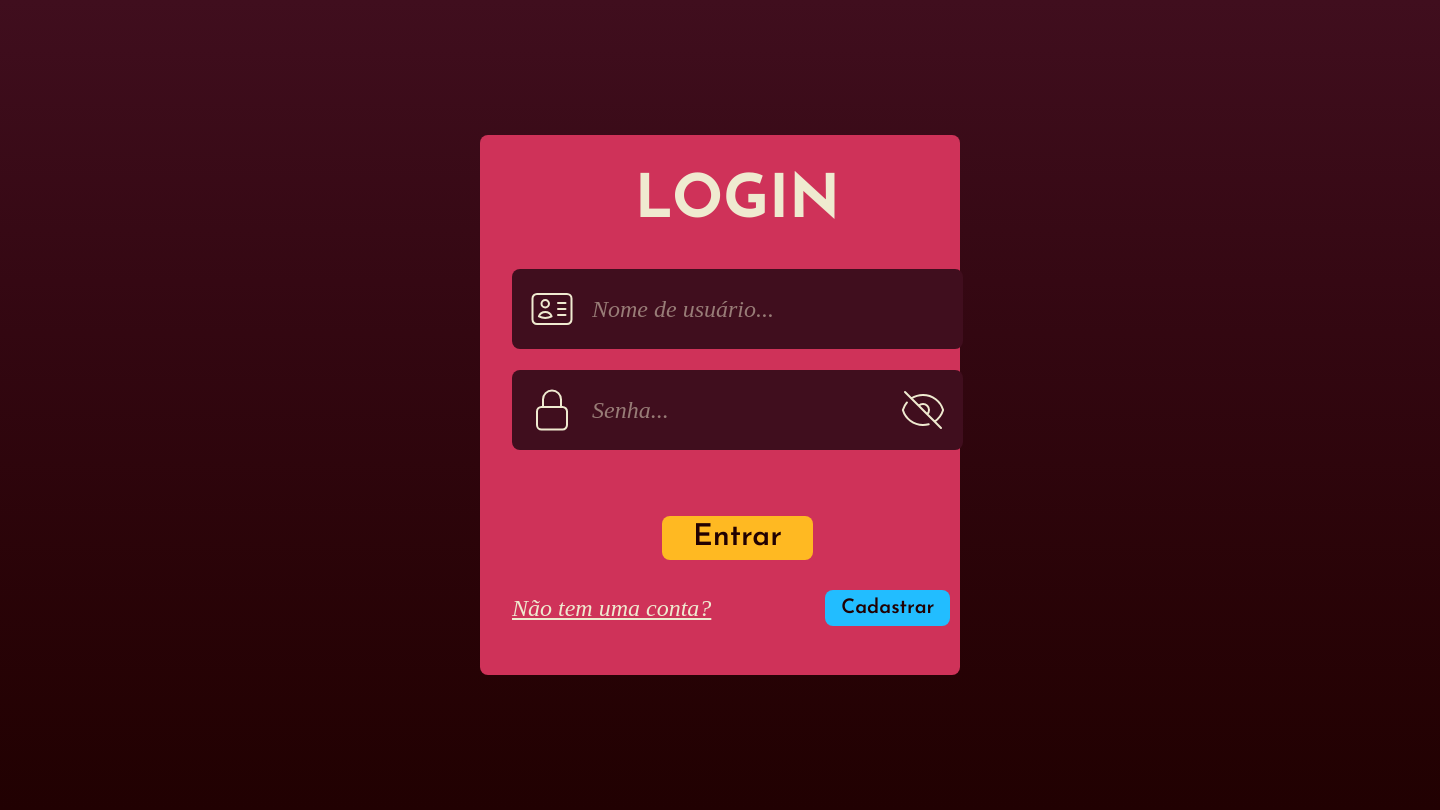
Scenario: Componente Login › Cenário: login com informações inválidas
The width and height of the screenshot is (1440, 810).
Note: DADO QUE eu preenchi dados inválidos...
Type "!@#!@!##@@" into the field with placeholder "Nome de usuário...".
click(762, 309); type("!@#!@!##@@")  # box [592,293,931,325]
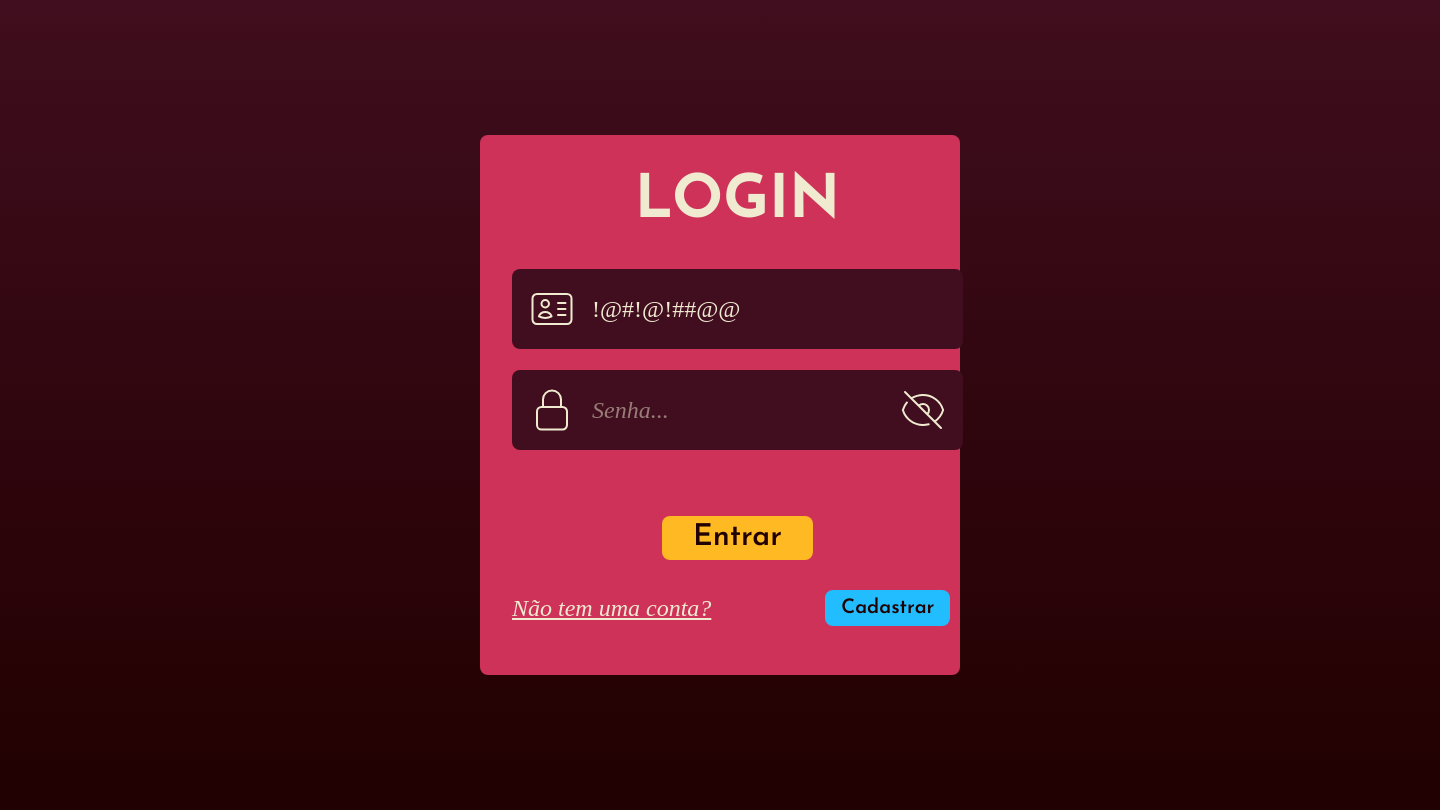
Type "bad" into the password field with placeholder "Senha...".
click(738, 410); type("bad")  # box [592,394,883,426]
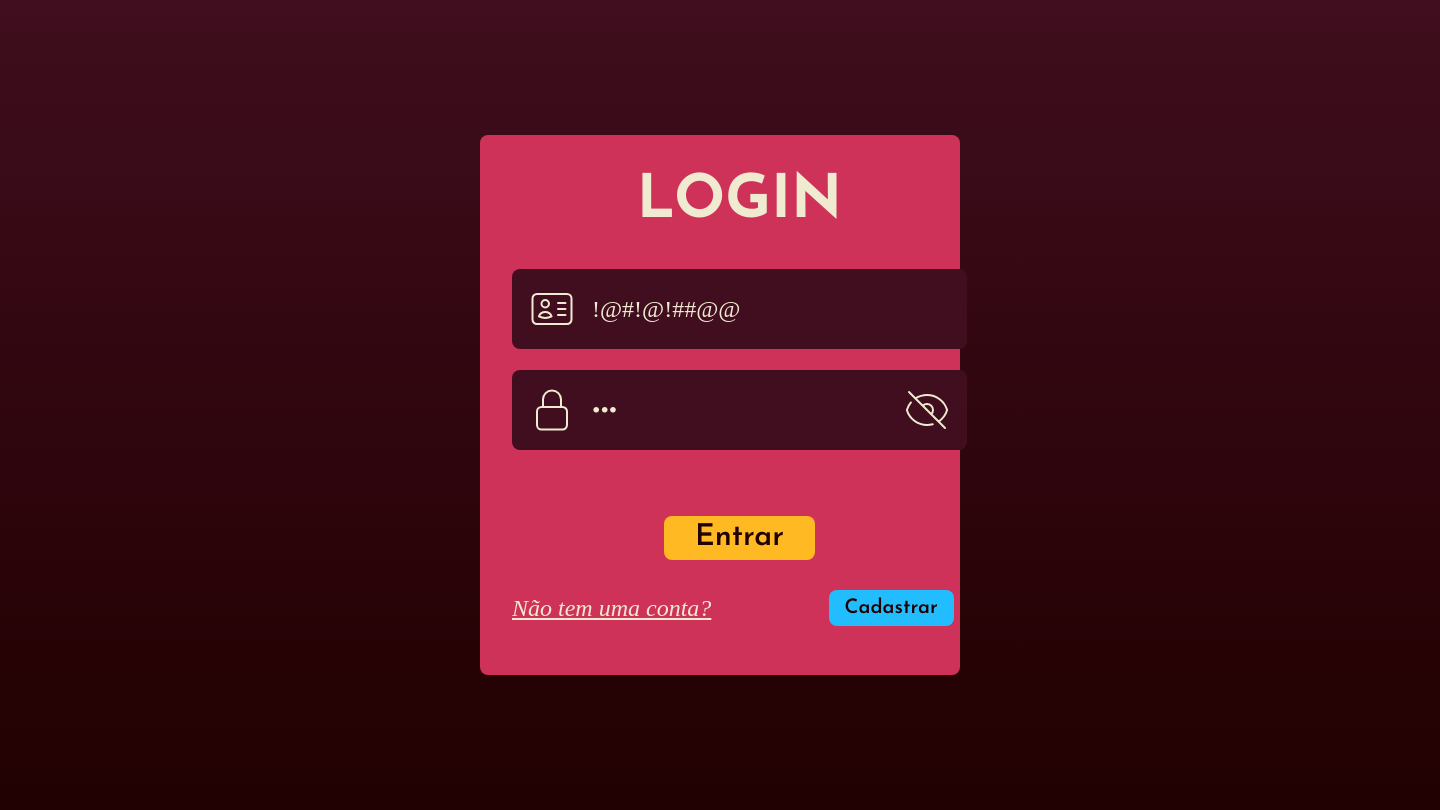
Note: QUANDO eu clico em entrar...
Click the button "Entrar".
click(740, 538)  # box [664,516,815,560]
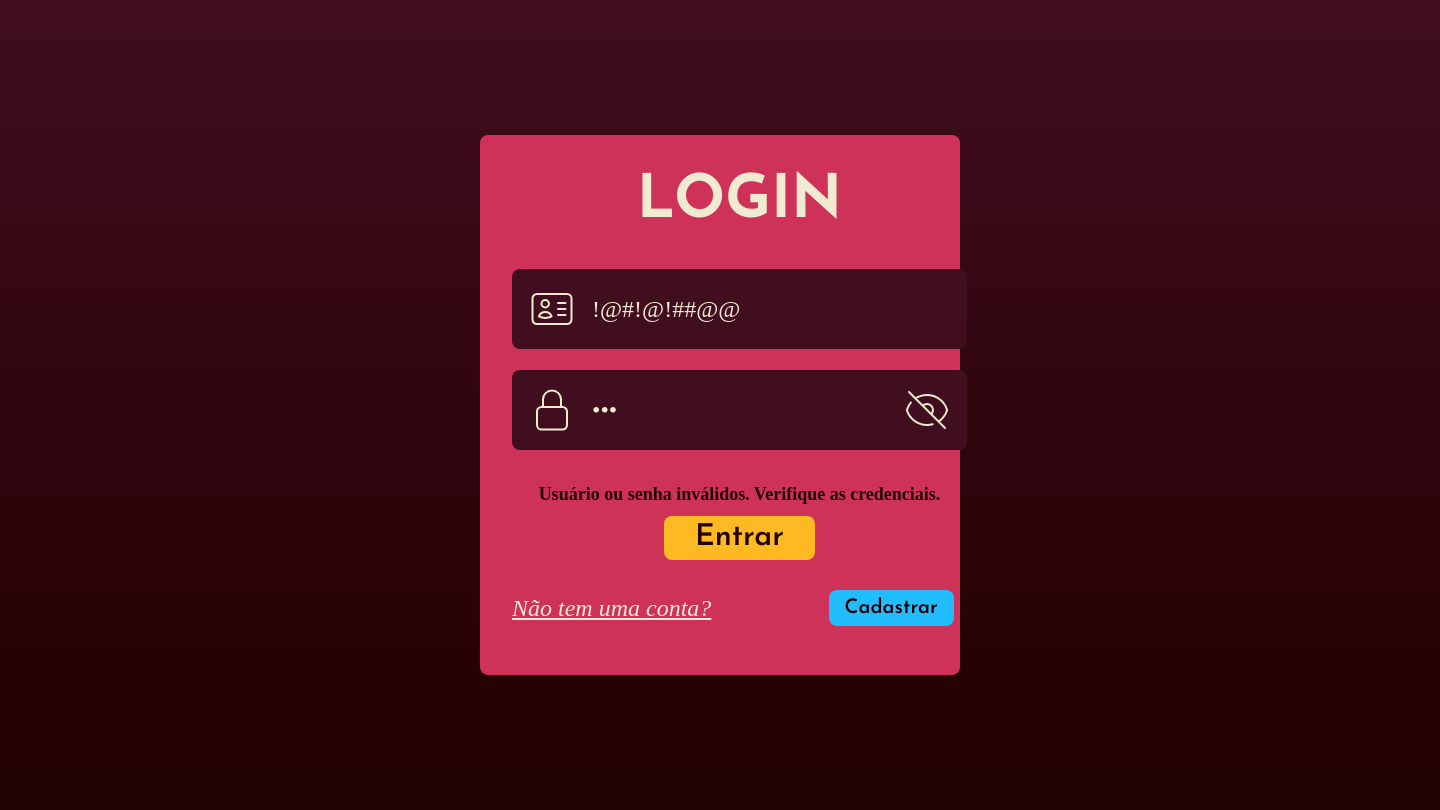
Expected: the text with test id "error-text" reads "Usuário ou senha inválidos. Verifique as credenciais.", [539,484,940,504]
